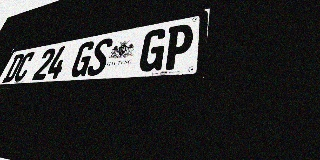2: (31, 47, 57, 80)
4: (44, 45, 71, 79)
C: (12, 51, 36, 82)
D: (2, 53, 25, 83)
G: (137, 27, 169, 72), (69, 40, 97, 77)
P: (162, 23, 195, 70)
S: (85, 37, 114, 76)
